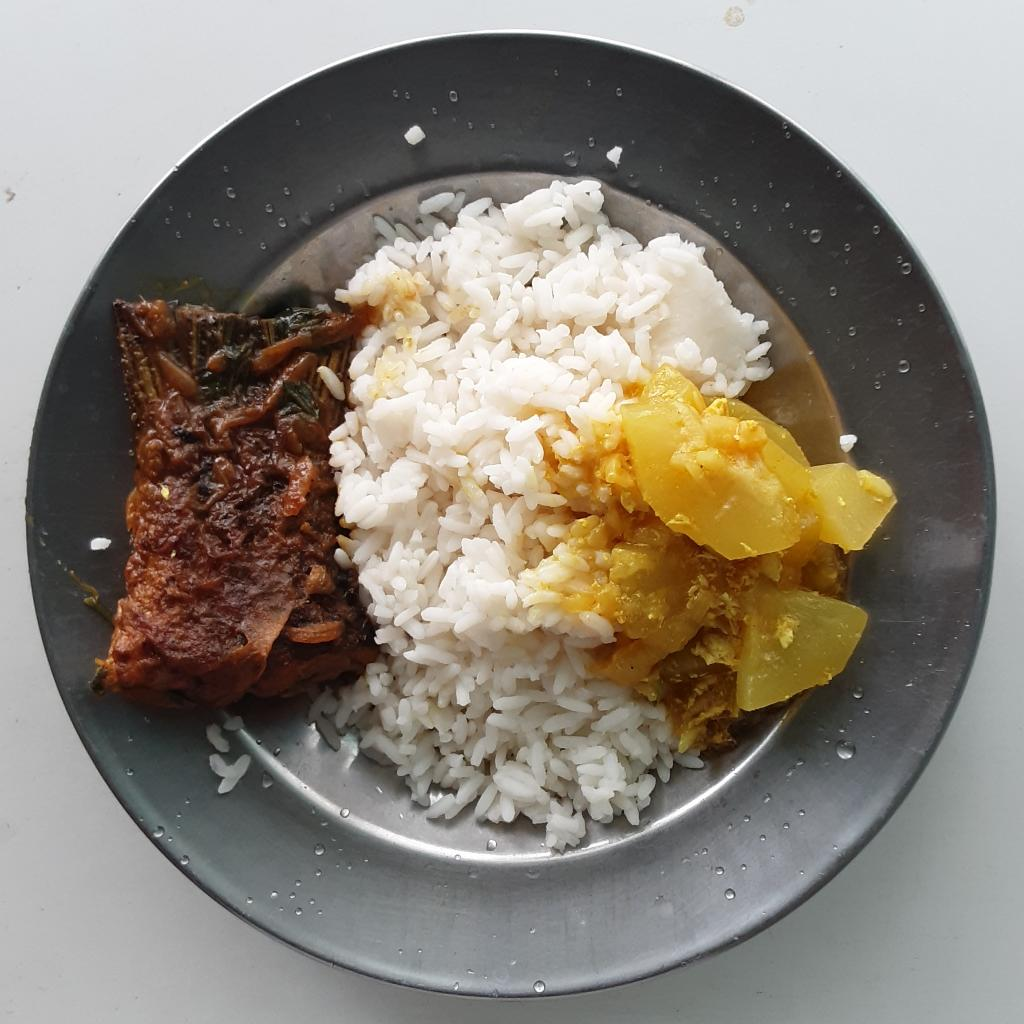fish: (80, 298, 385, 703)
lau: (560, 364, 901, 753)
rice: (305, 177, 773, 851)
